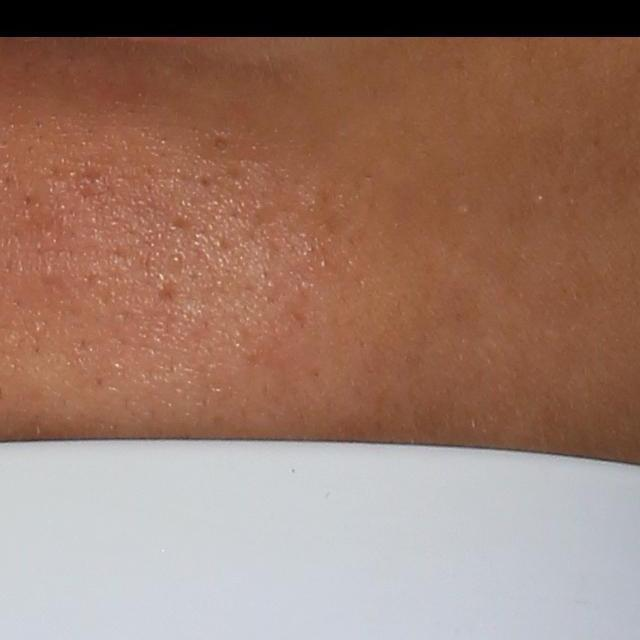atrophic_scar: (78, 159, 110, 185), (154, 278, 183, 306), (167, 211, 193, 237), (196, 170, 216, 189)
comedo: (212, 129, 233, 152)
